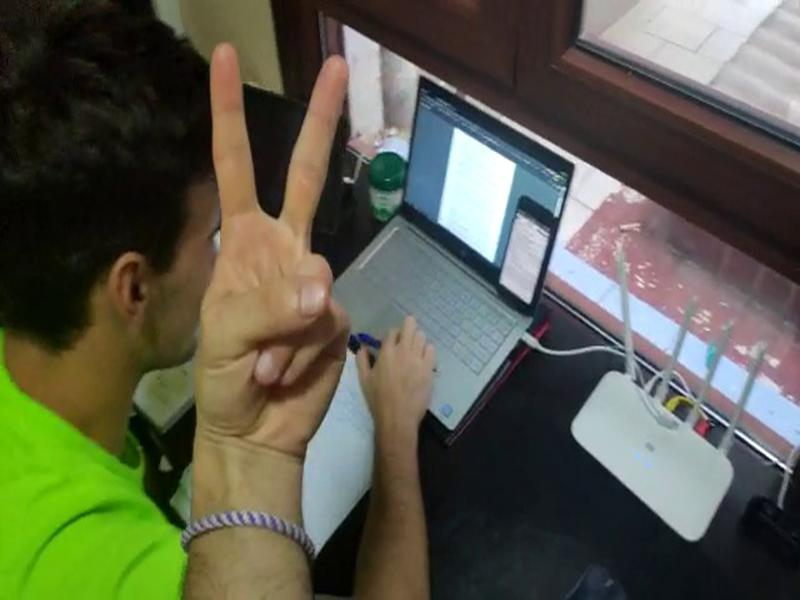Peace: (176, 31, 359, 437)
